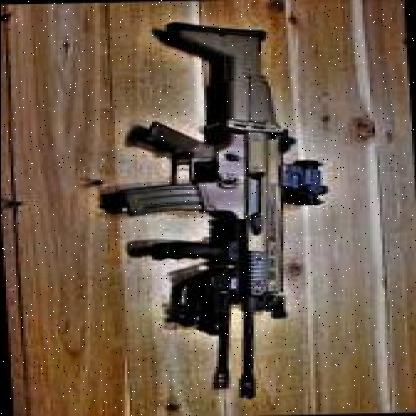rifle: (106, 21, 322, 401)
